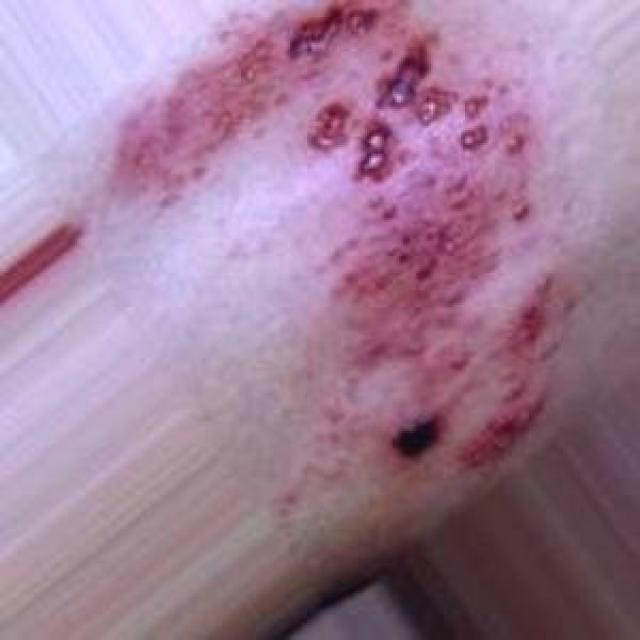Shingles: (281, 46, 559, 471), (110, 6, 377, 212)
